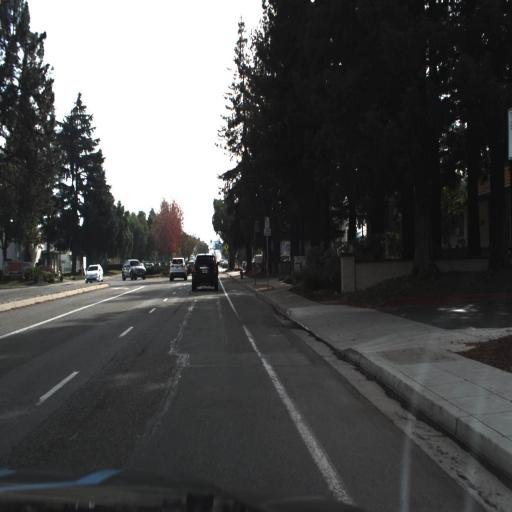car: (191, 252, 218, 290), (121, 257, 145, 282), (168, 255, 189, 283), (83, 264, 104, 285)
